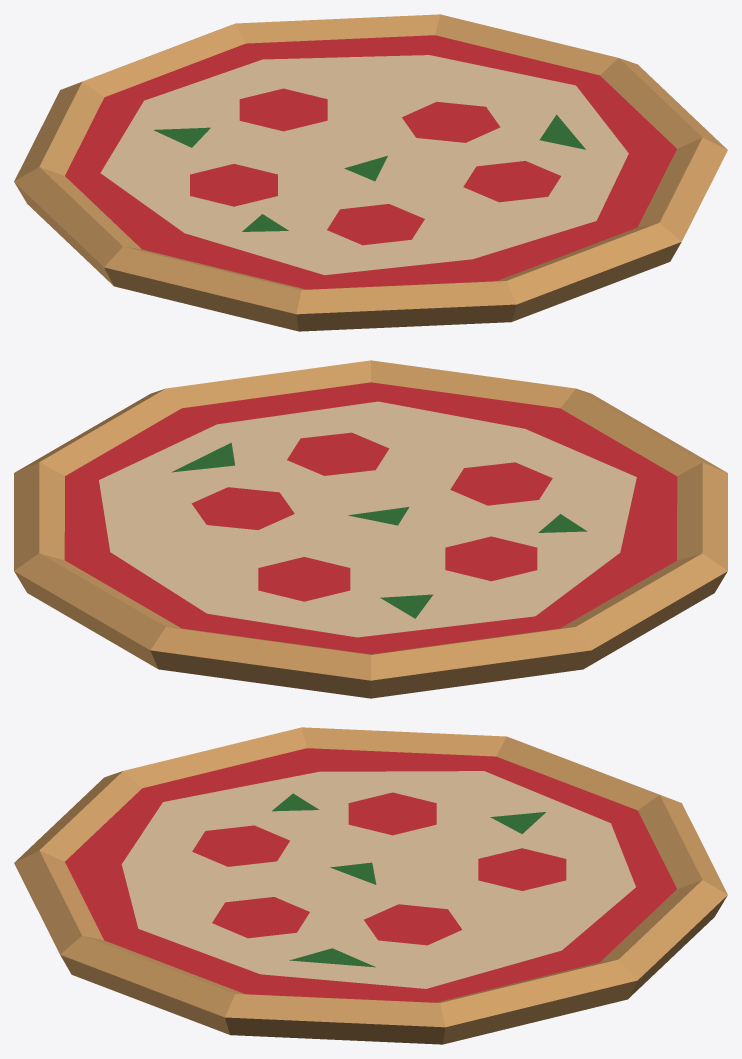
Rendered from pizza-cheese.glb.
3 renders of one model, top to bottom at view 1: azimuth 30°, elevation 25°; view 2: azimuth 150°, elevation 25°; view 3: azimuth 270°, elevation 25°, orthographic. The views are drawn at different scales.
Parts seen in each view (by area): view 1: pizza-cheese; view 2: pizza-cheese; view 3: pizza-cheese.
Boxes of the visible parts, x1,y1,x2,y2 form: pizza-cheese: (14, 14, 727, 331); pizza-cheese: (14, 360, 727, 698); pizza-cheese: (14, 727, 727, 1044).
Size of the model in its own units: 0.3913 by 0.0225 by 0.3978.
1 material, 1 textured.
